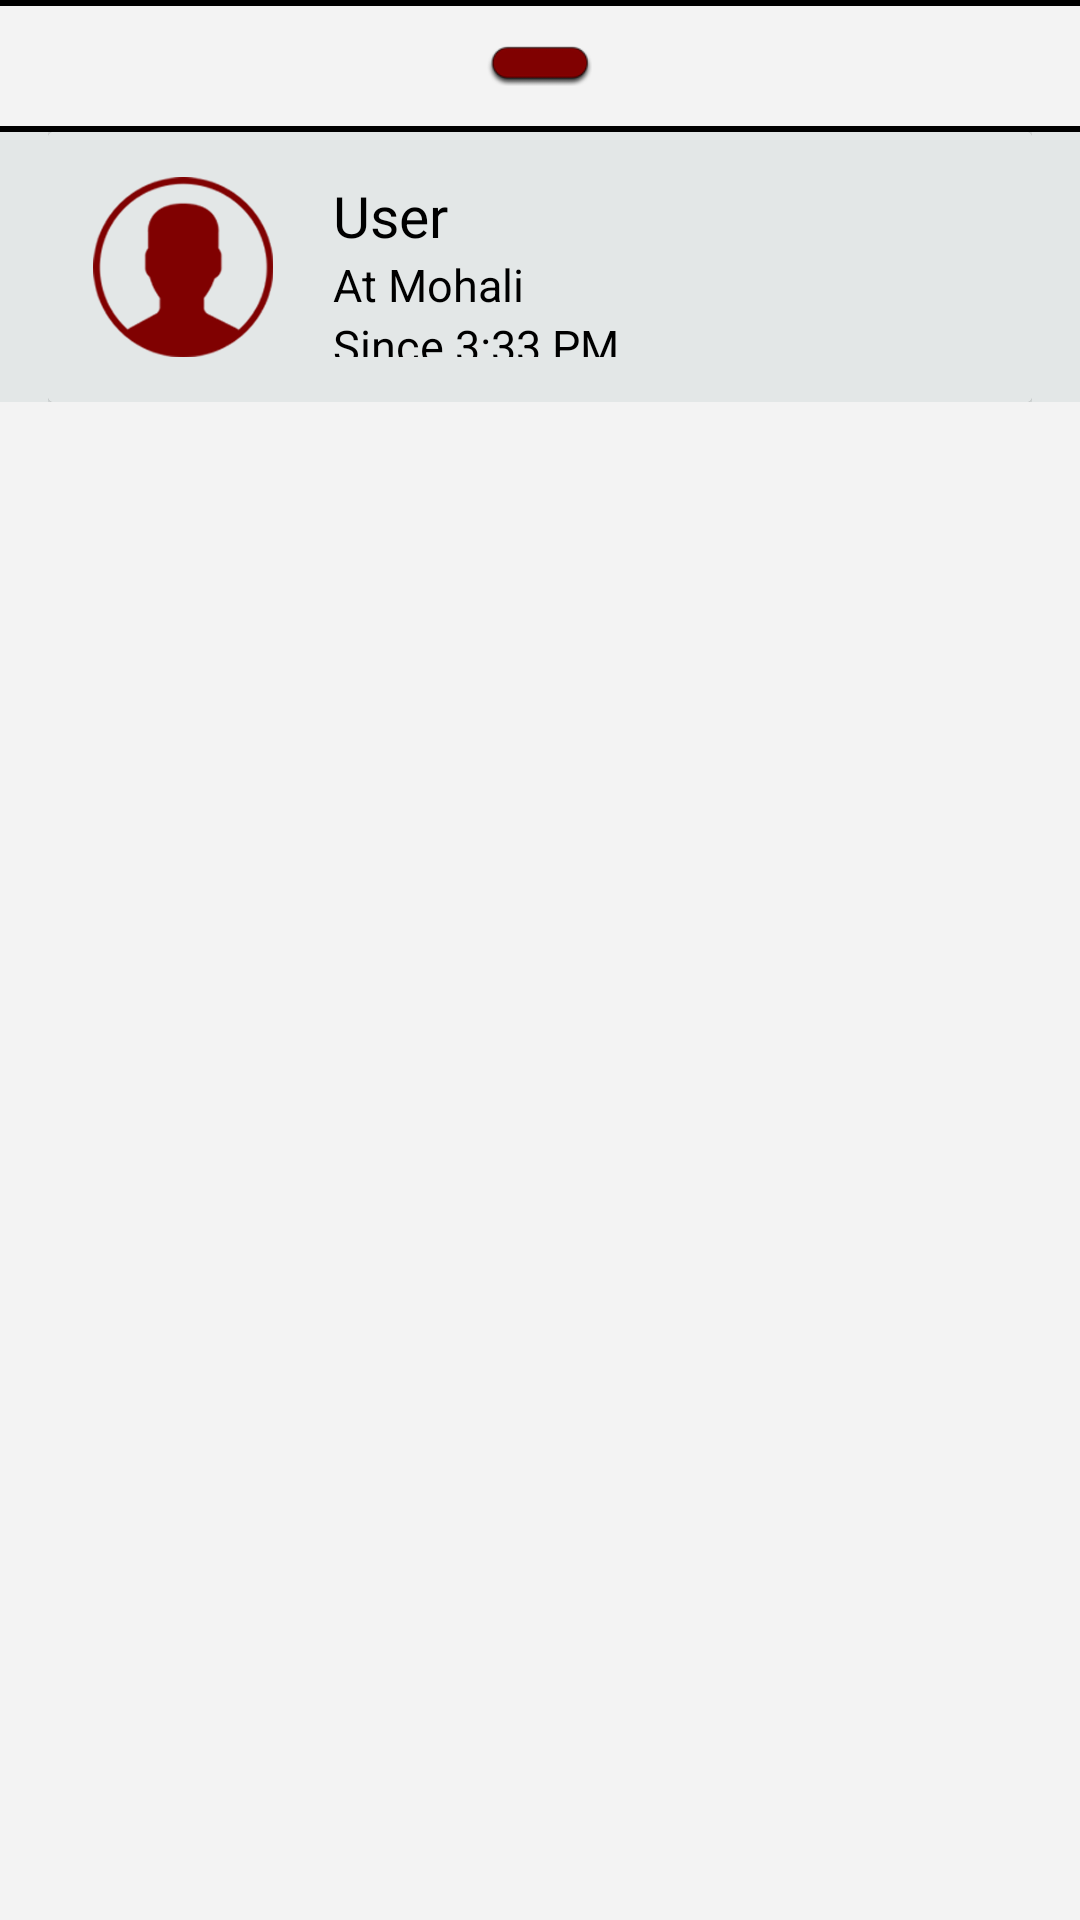

Screen size 1080px x 1920px. Icon name, then its box in pixels as (x1, y1, x2, y2):
bottom sheet profile pic: (93, 177, 273, 357)
